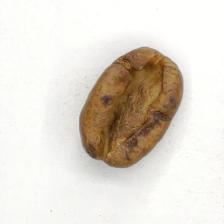NG: (97, 58, 166, 151)
